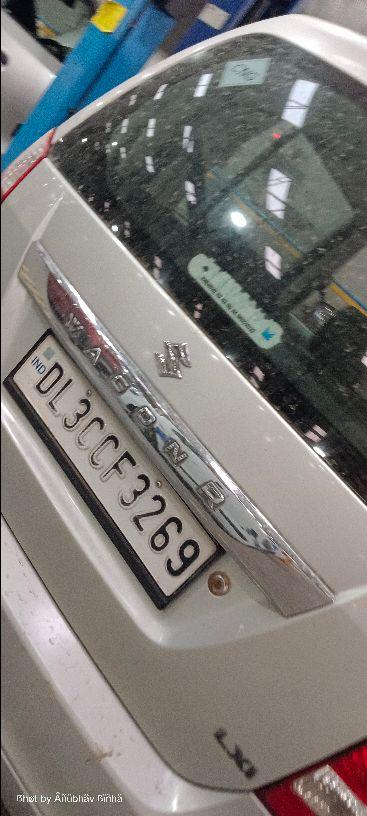license_plate: (1, 12, 365, 792), (2, 326, 221, 610)
